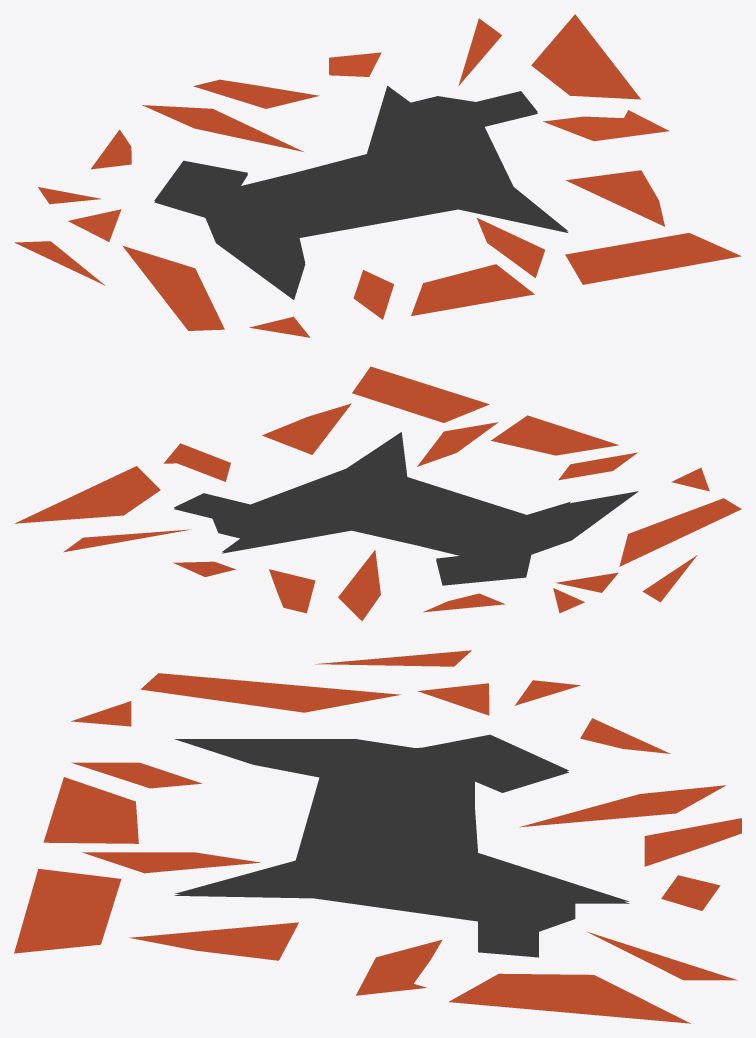
Rendered from Perro.fbx.
The picture shows the model from 3 angles, top to bottom: view 1: azimuth 30°, elevation 25°; view 2: azimuth 150°, elevation 25°; view 3: azimuth 270°, elevation 25°; orthographic projection. The views are drawn at different scales.
Parts seen in each view (by area): view 1: Plane.009, Plane.029, Plane.035, Plane.003, Plane, Plane.034, Plane.004, Plane.028, Plane.010, Plane.025, Plane.013, Plane.030 (+21 smaller); view 2: Plane.029, Plane.009, Plane.003, Plane.035, Plane, Plane.004, Plane.034, Plane.028, Plane.010, Plane.013, Plane.025, Plane.008 (+19 smaller); view 3: Plane.029, Plane.009, Plane.003, Plane.035, Plane, Plane.034, Plane.004, Plane.010, Plane.028, Plane.025, Plane.013, Plane.008 (+21 smaller).
Part boxes in pixels (x1,y1,x2,y2): Plane.009: [281, 184, 457, 236]; Plane.029: [565, 233, 741, 284]; Plane.035: [531, 14, 640, 99]; Plane.003: [367, 103, 476, 187]; Plane: [154, 112, 567, 299]; Plane.034: [122, 245, 224, 330]; Plane.004: [411, 103, 513, 187]; Plane.028: [411, 264, 534, 315]; Plane.010: [281, 154, 404, 205]; Plane.025: [566, 170, 664, 226]; Plane.013: [206, 206, 305, 262]; Plane.030: [142, 105, 303, 151]; Plane.029: [352, 366, 489, 422]; Plane.009: [389, 477, 525, 533]; Plane.003: [242, 479, 388, 537]; Plane.035: [15, 466, 160, 523]; Plane: [174, 491, 638, 585]; Plane.004: [242, 469, 363, 536]; Plane.034: [619, 498, 741, 566]; Plane.028: [491, 415, 618, 455]; Plane.010: [352, 504, 479, 543]; Plane.013: [481, 501, 570, 553]; Plane.025: [262, 403, 351, 454]; Plane.008: [364, 432, 407, 503]; Plane.029: [14, 868, 121, 953]; Plane.009: [295, 775, 402, 860]; Plane.003: [332, 851, 574, 901]; Plane.035: [449, 973, 690, 1023]; Plane: [174, 739, 629, 957]; Plane.034: [140, 673, 400, 712]; Plane.004: [314, 880, 574, 919]; Plane.010: [382, 786, 477, 852]; Plane.028: [43, 777, 138, 843]; Plane.025: [129, 922, 298, 960]; Plane.013: [254, 747, 423, 785]; Plane.008: [175, 852, 381, 893].
Size of the model in its own units: 1453 by 12.58 by 1197.
